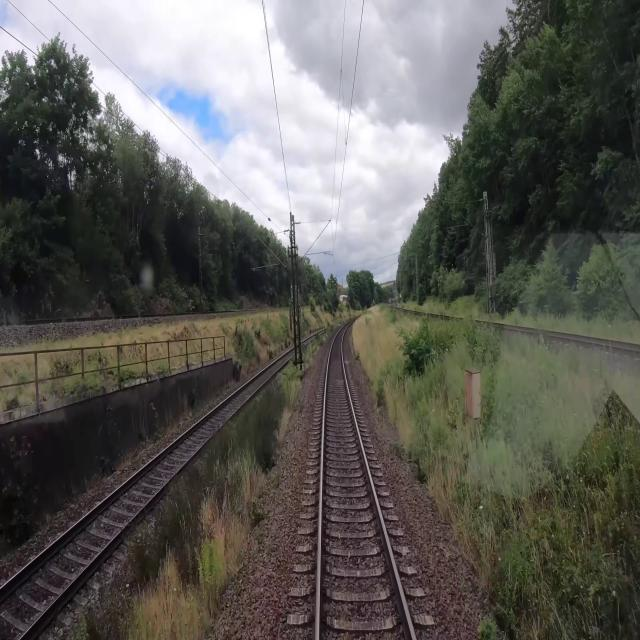Plant: (73, 323, 340, 639), (392, 444, 421, 484), (476, 612, 498, 635), (371, 386, 384, 419)
